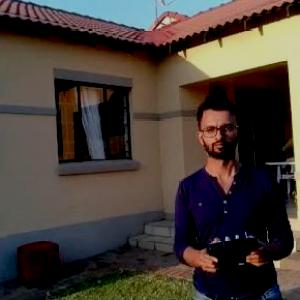follow: (172, 90, 299, 298)
